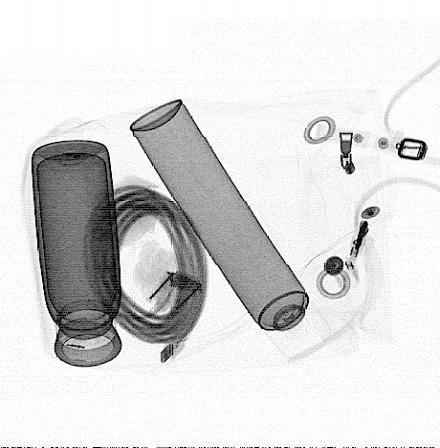Sprayer: (129, 97, 334, 362)
